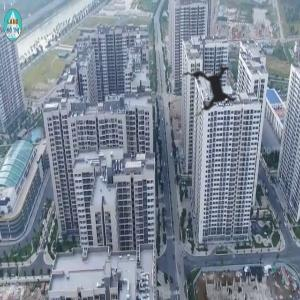drone: (161, 38, 266, 143)
